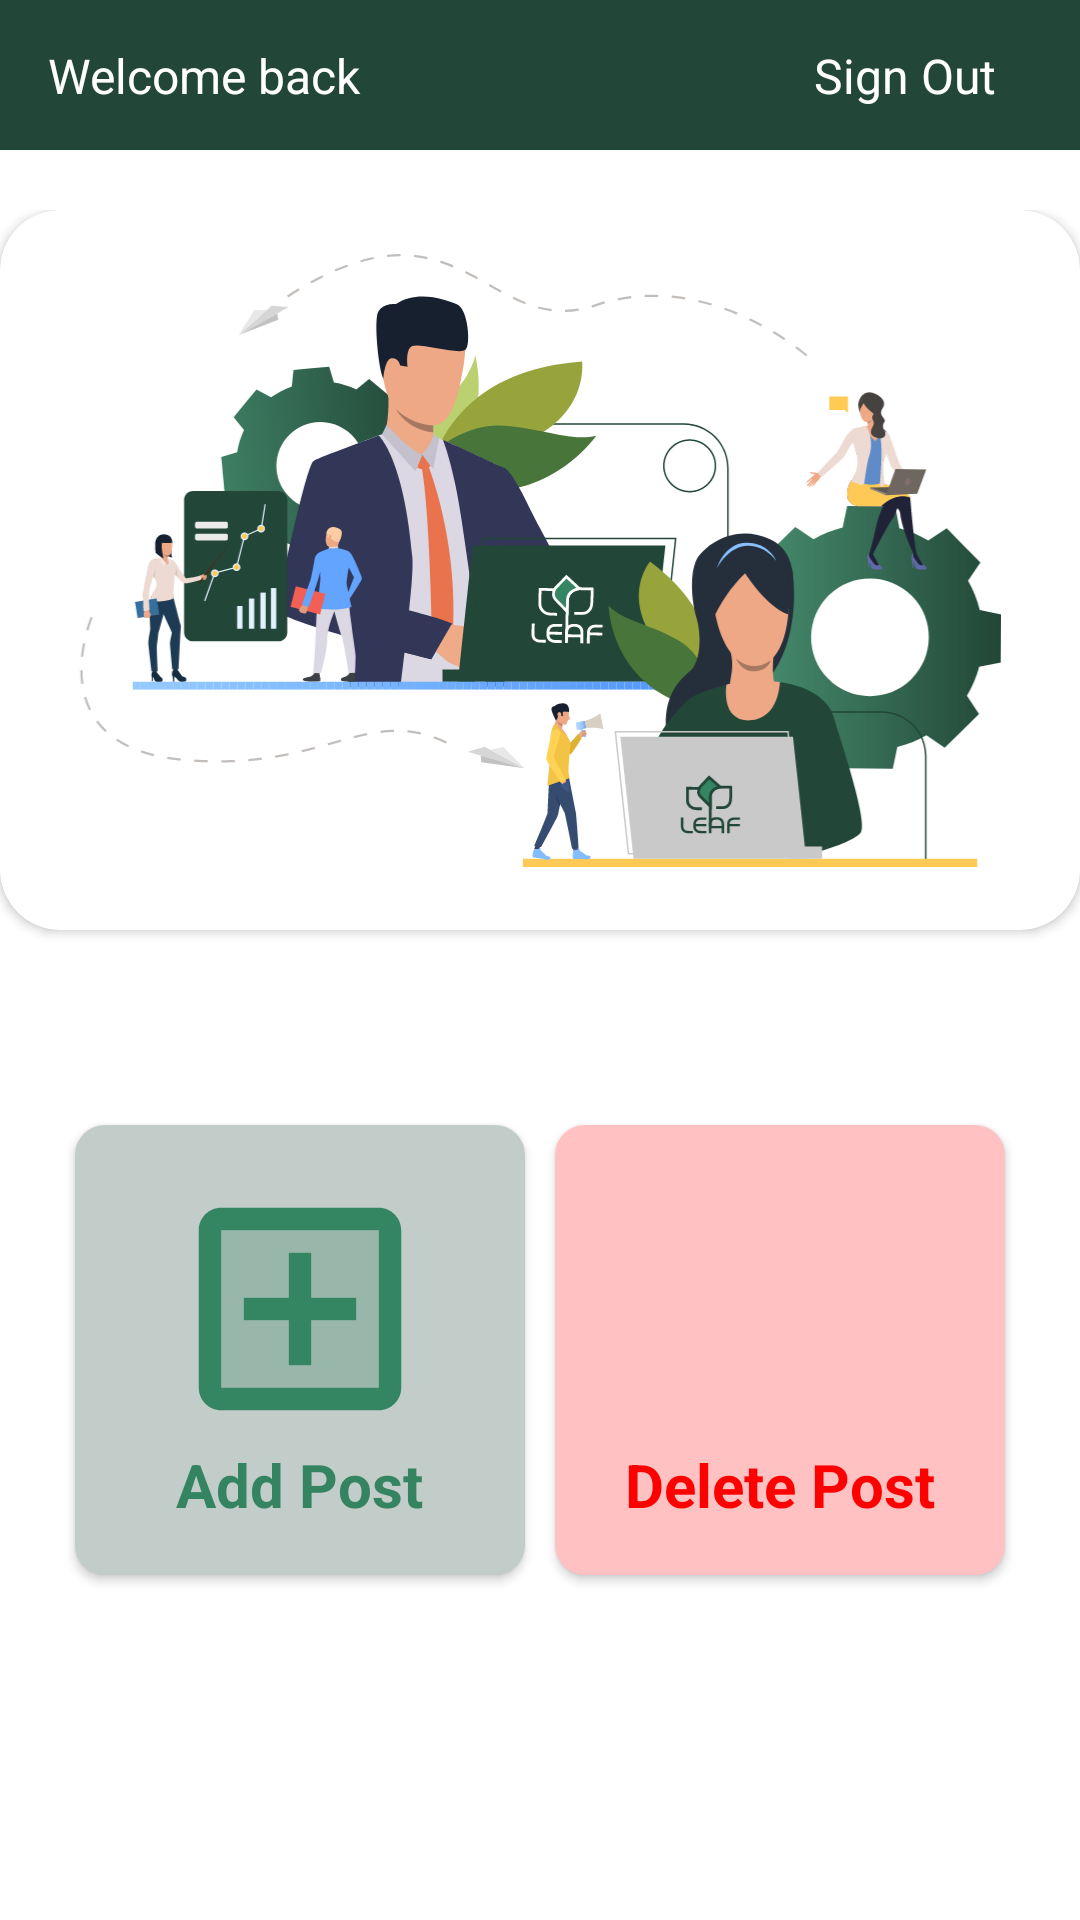

Named icons in this screenshot (1080px x 1920px) and their centers, [x,y]:
add box: [300,1309]
